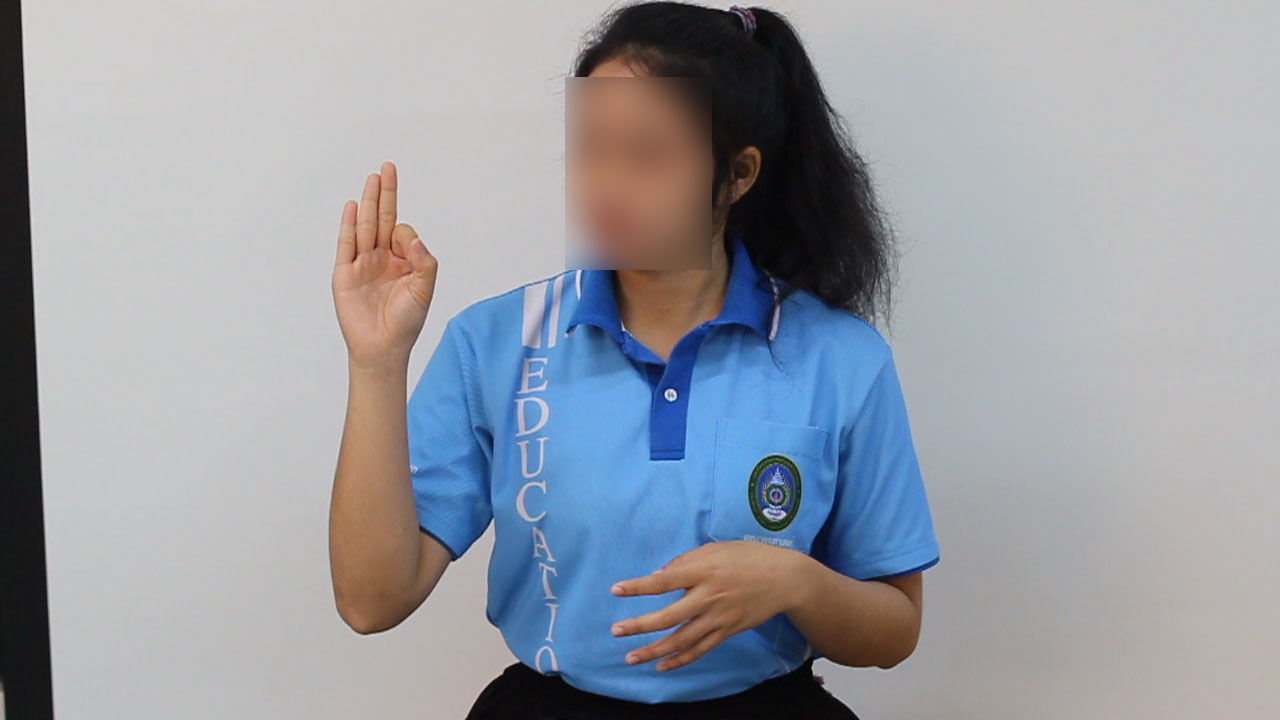for: (320, 152, 445, 381)
